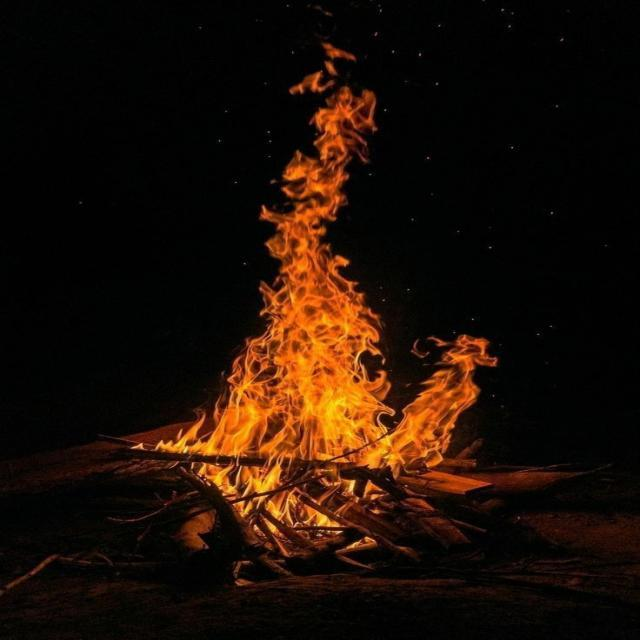Fire: (146, 41, 537, 516)
